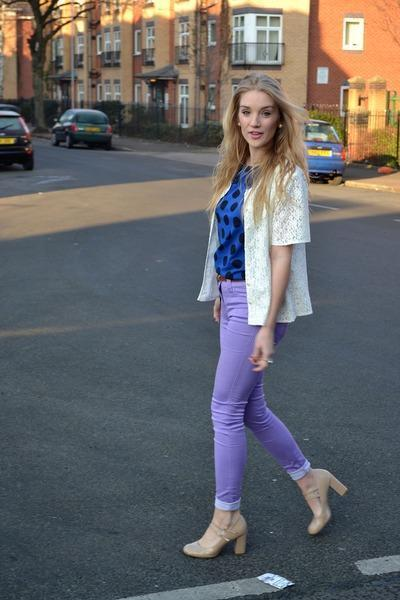pants: (211, 278, 306, 509)
shirt: (197, 166, 323, 324), (214, 156, 257, 282)
shoe: (184, 469, 346, 555)
